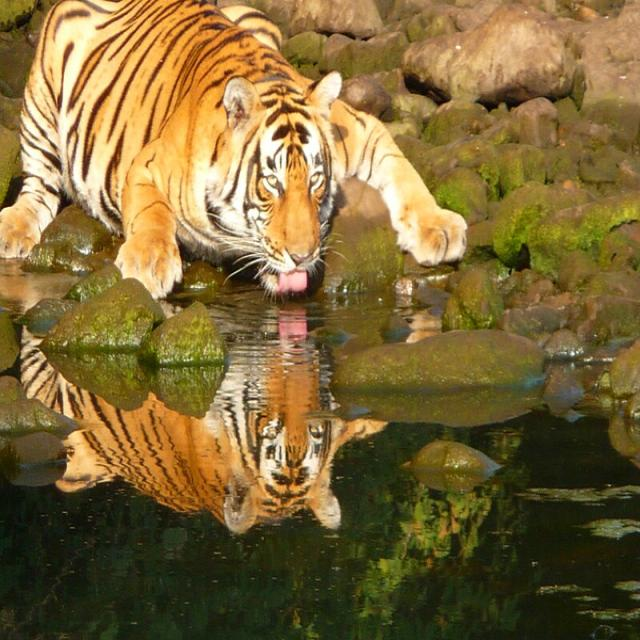Tiger: (2, 1, 468, 293)
